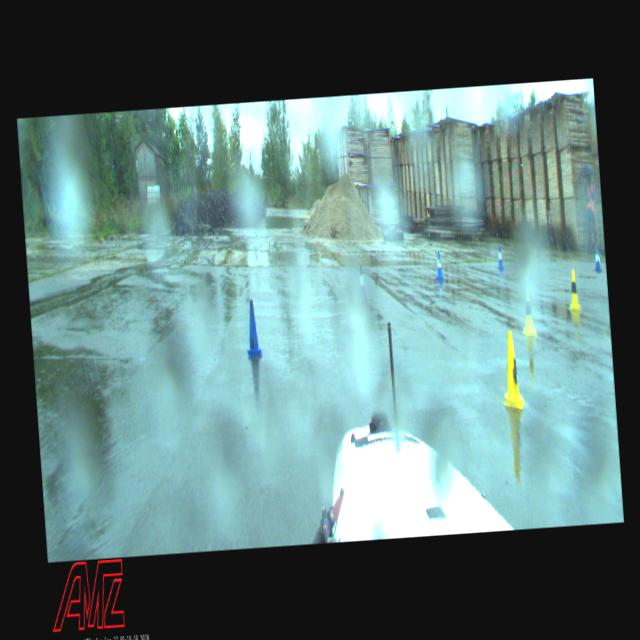blue_cone: (244, 300, 262, 354), (356, 265, 366, 302), (592, 244, 602, 271), (435, 250, 443, 279), (496, 245, 504, 270)
yellow_cone: (499, 330, 524, 409), (518, 284, 538, 336), (568, 270, 580, 310)
